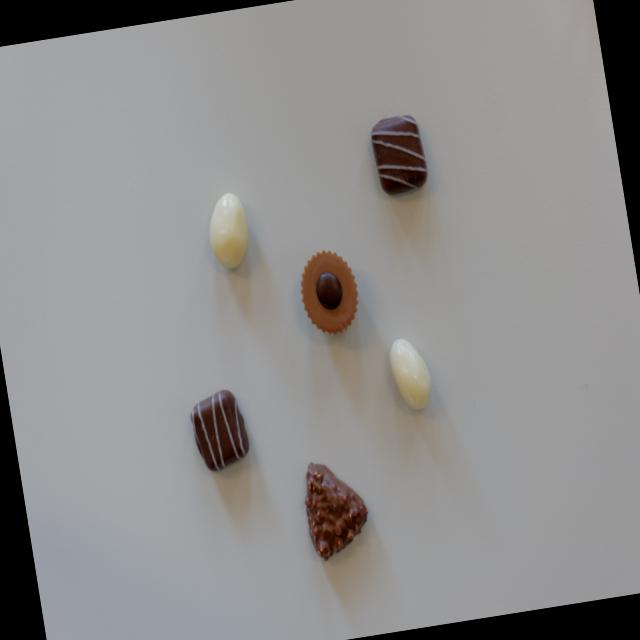Jelly_White: (204, 191, 254, 270), (386, 333, 434, 412)
Noblesse: (296, 248, 365, 338)
Stracciatella: (366, 110, 432, 200), (185, 388, 253, 474)
Triangolo: (298, 454, 375, 560)
